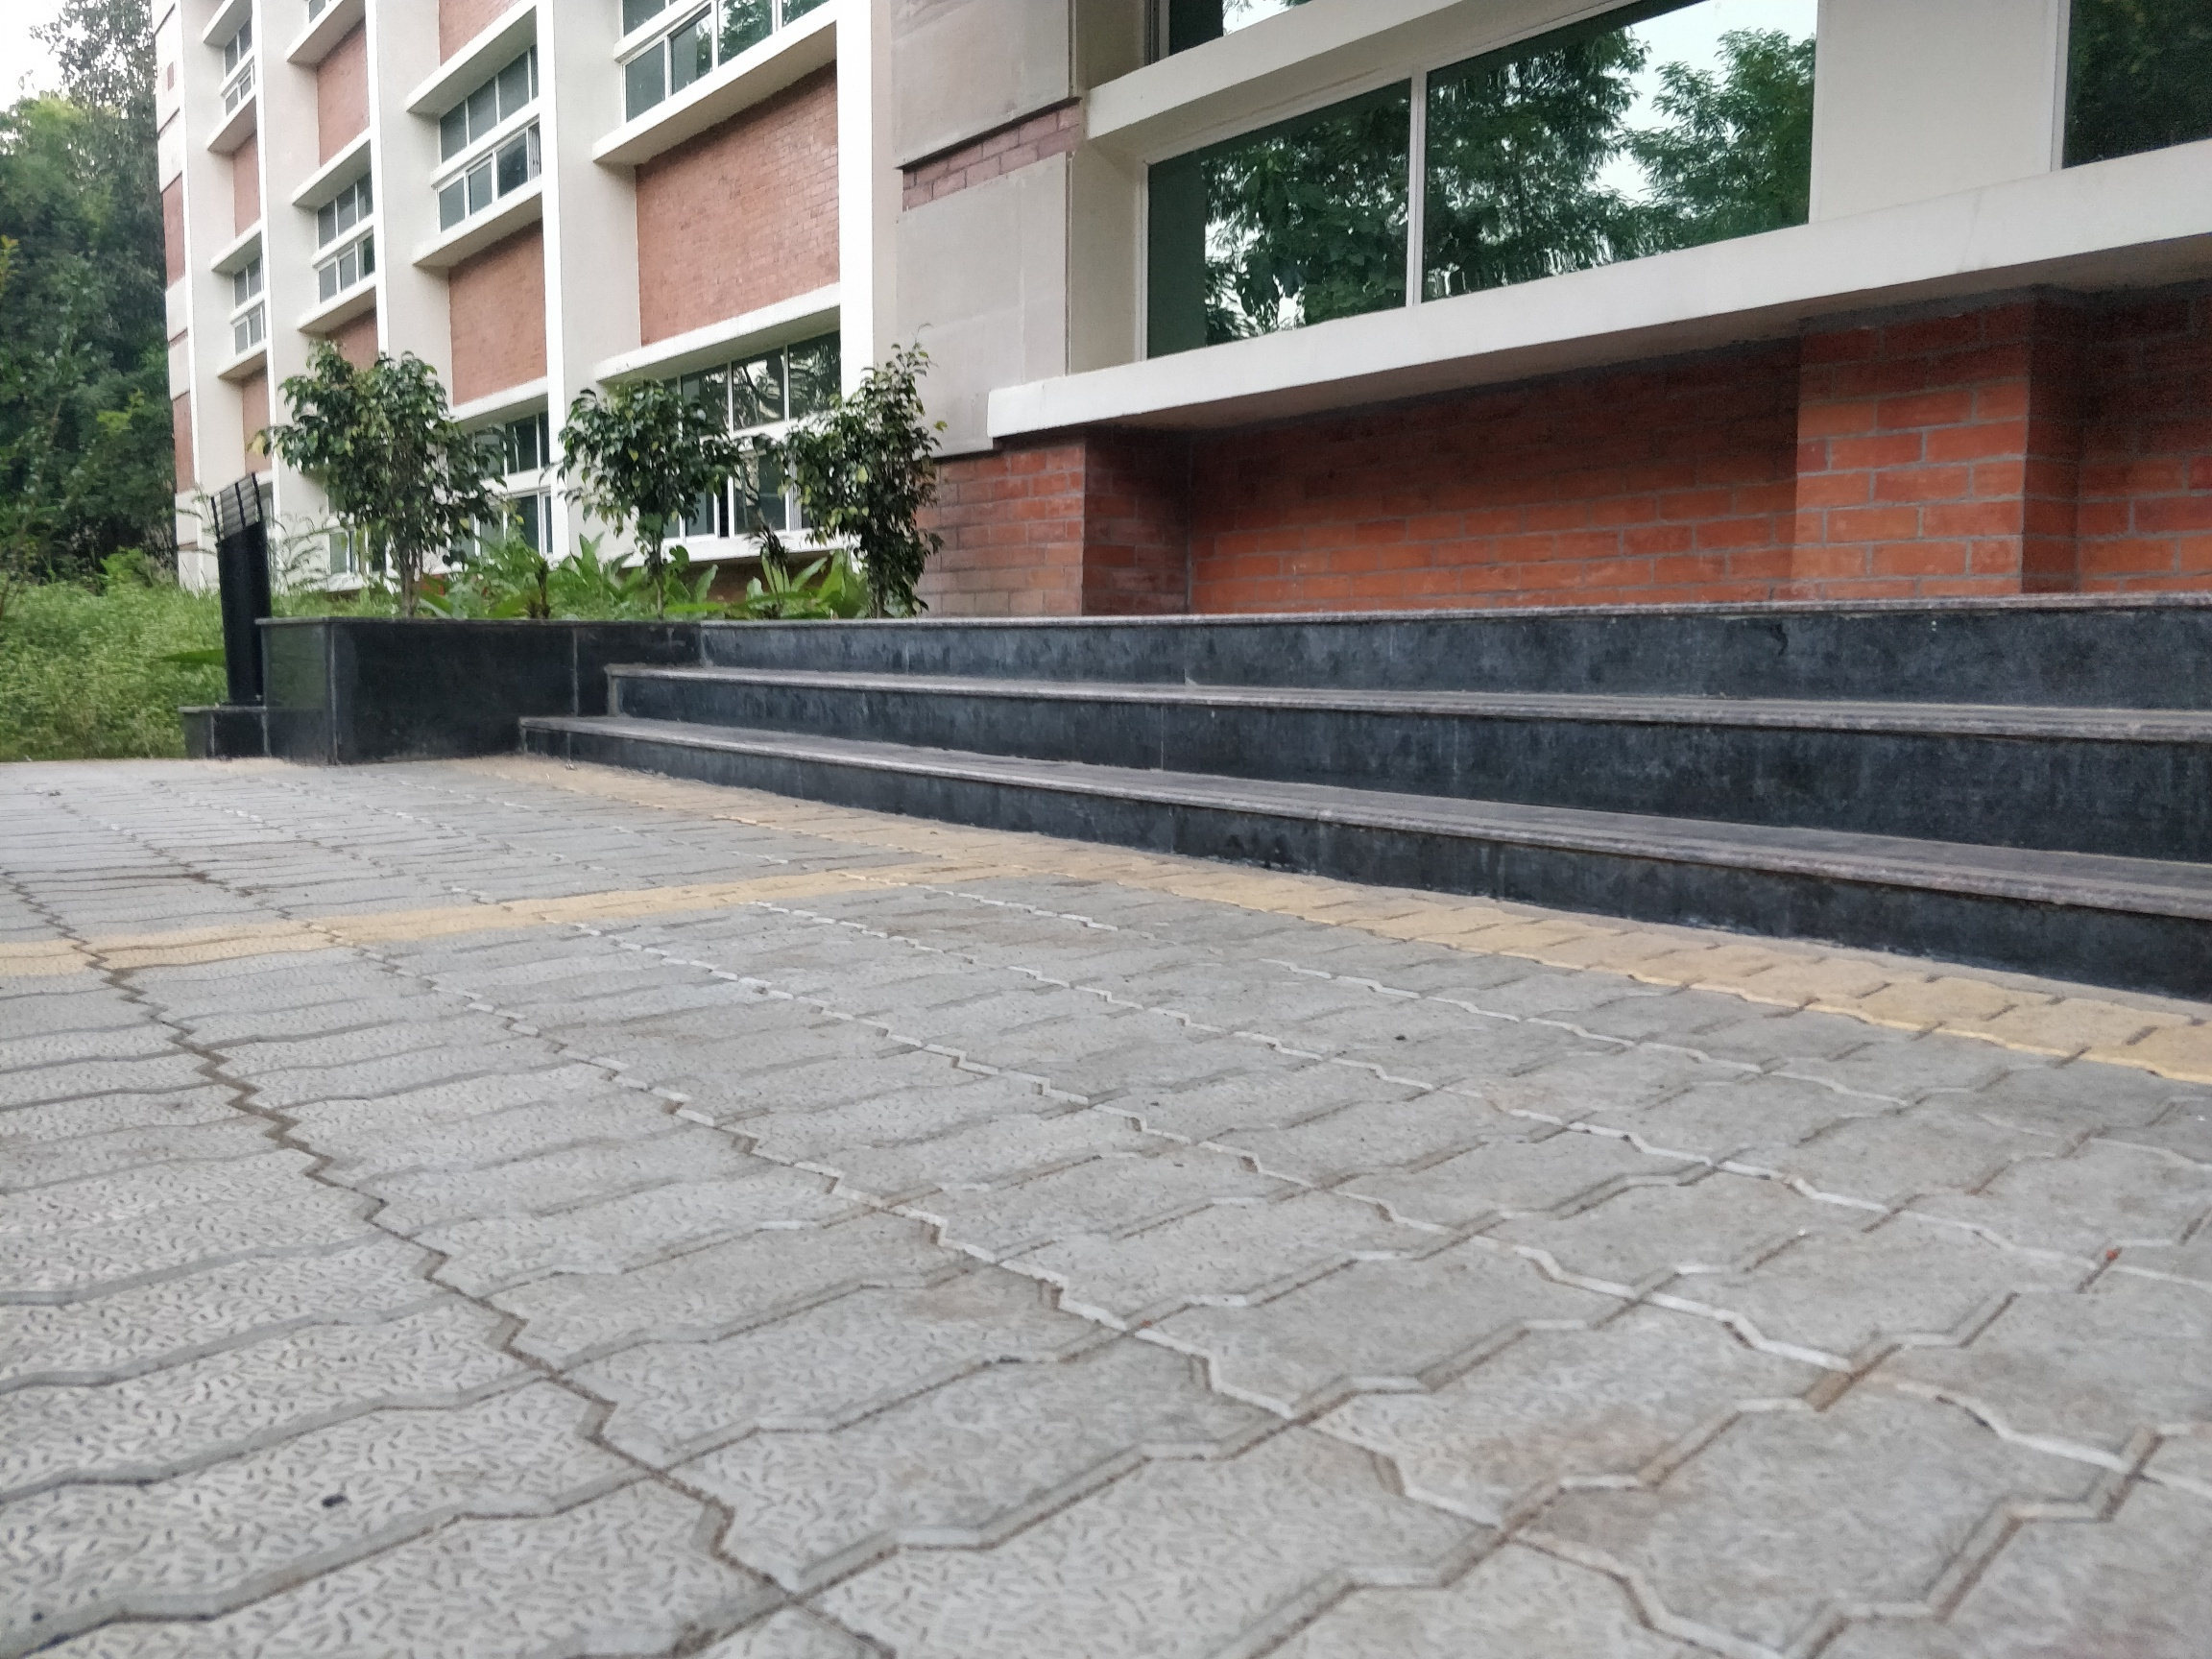stairs_up: (528, 589, 2114, 826)
